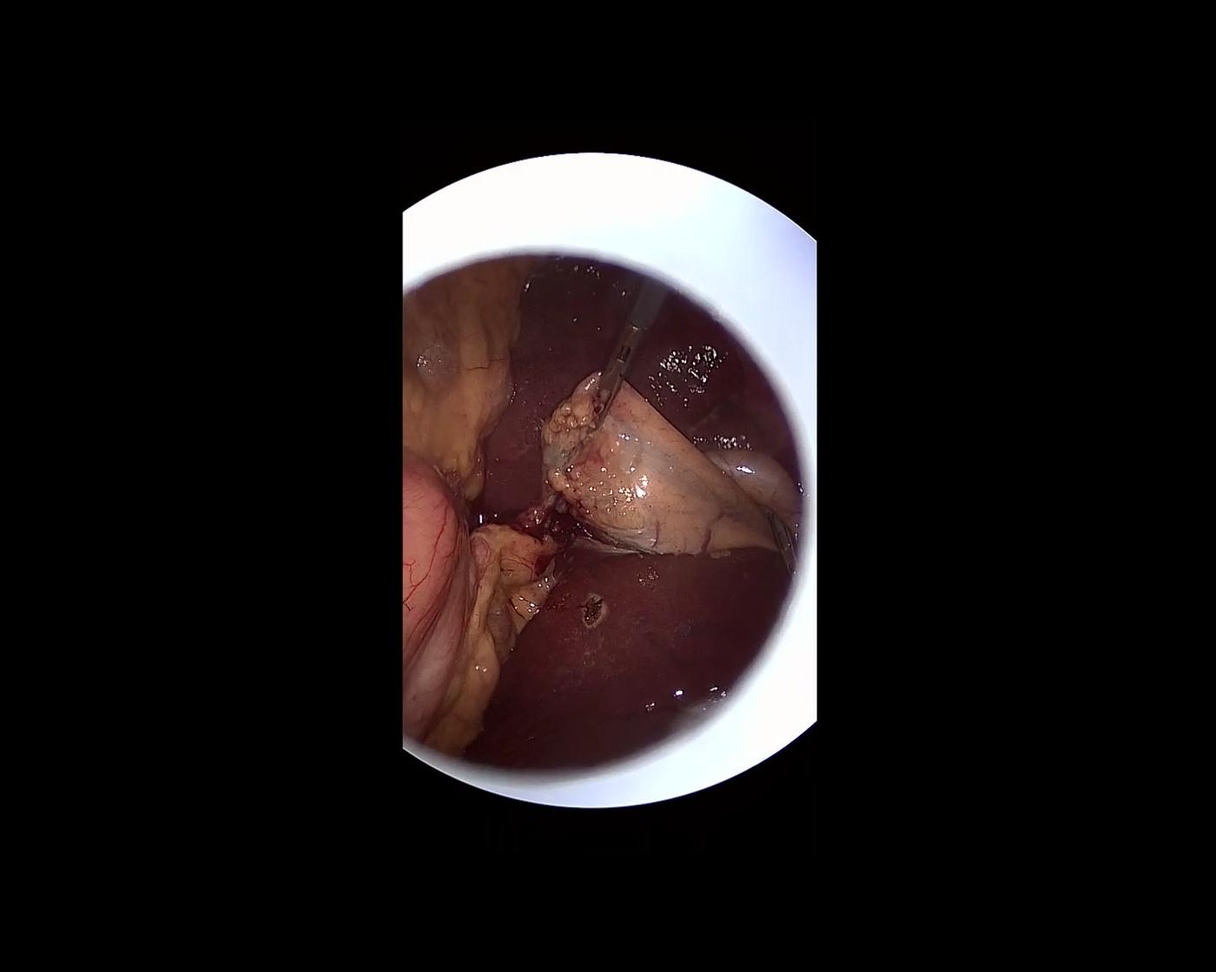Forceps: (566, 271, 672, 442), (763, 506, 805, 586)
Gallbladder: (510, 358, 821, 616)
Liver: (412, 212, 770, 528), (467, 552, 783, 766)
